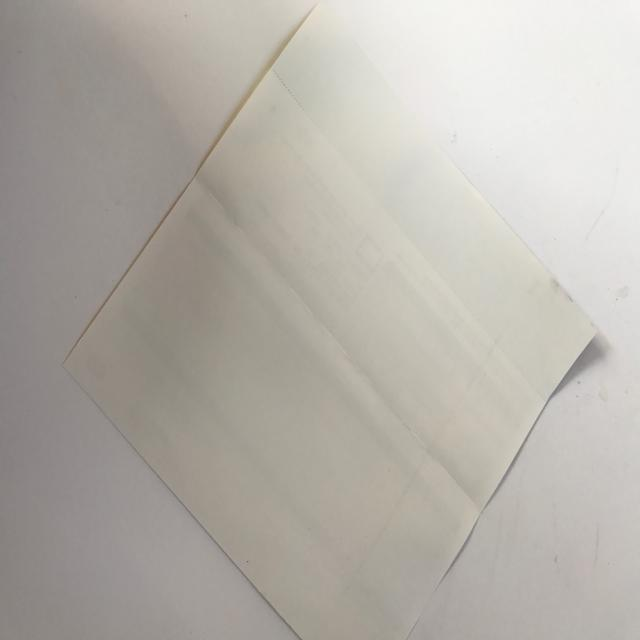paper: (60, 2, 599, 638)
